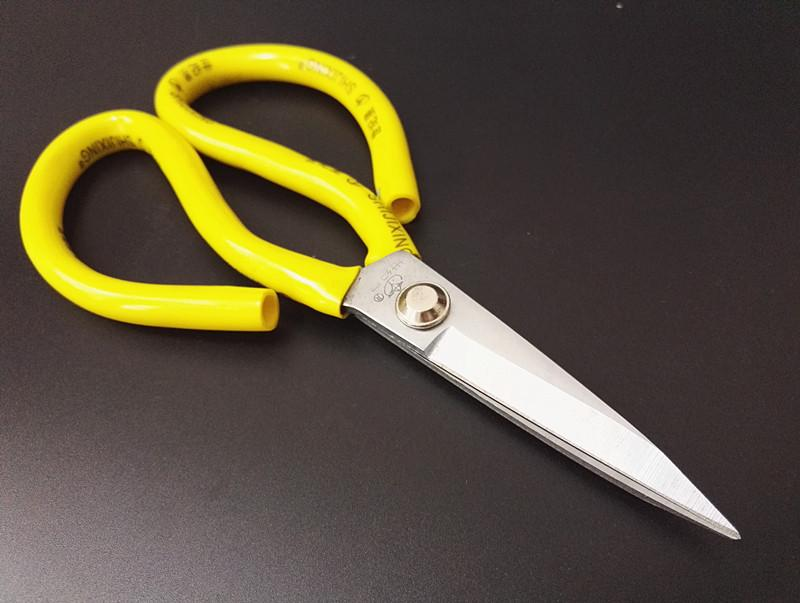scissor: (108, 27, 738, 542)
